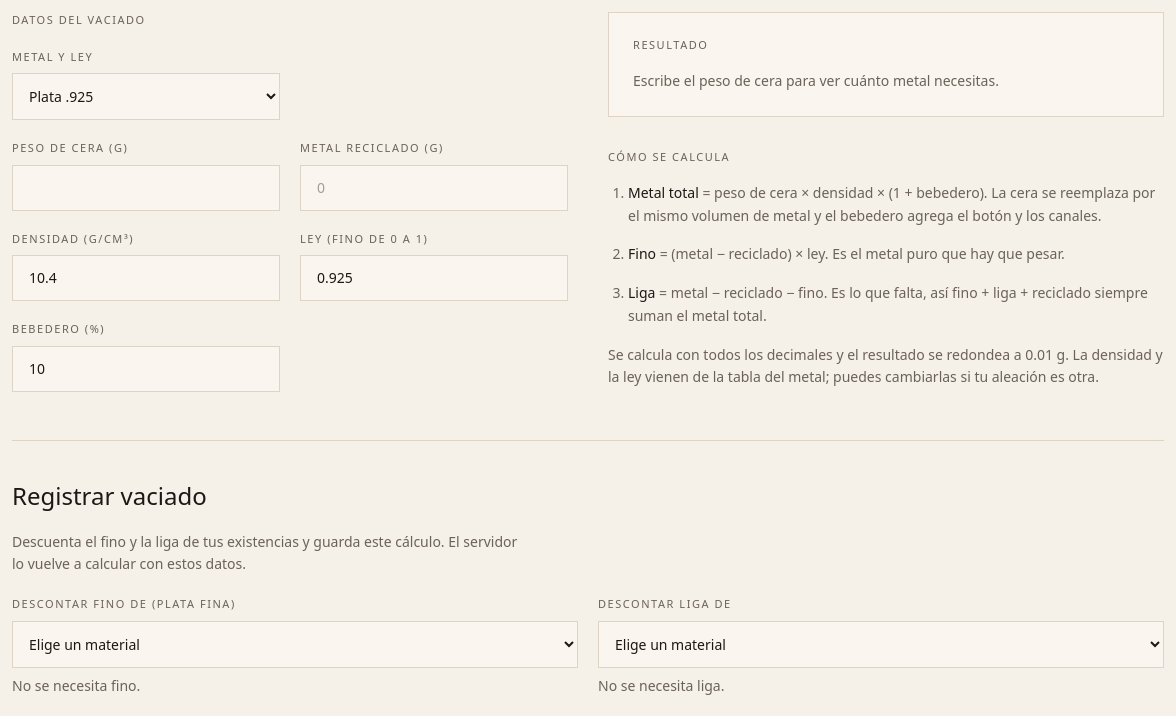
Scenario: CastingCalculator: live results › REQUIRED VECTOR: 5 g of wax in 14k yellow gold -> 71.89 g metal, 42.05 g fine, 29.84 g alloy
The image size is (1176, 716).
Select "Oro 14k" in the dropdown labelled "Metal y ley" at coordinates (146, 96), box [12,73,280,120]
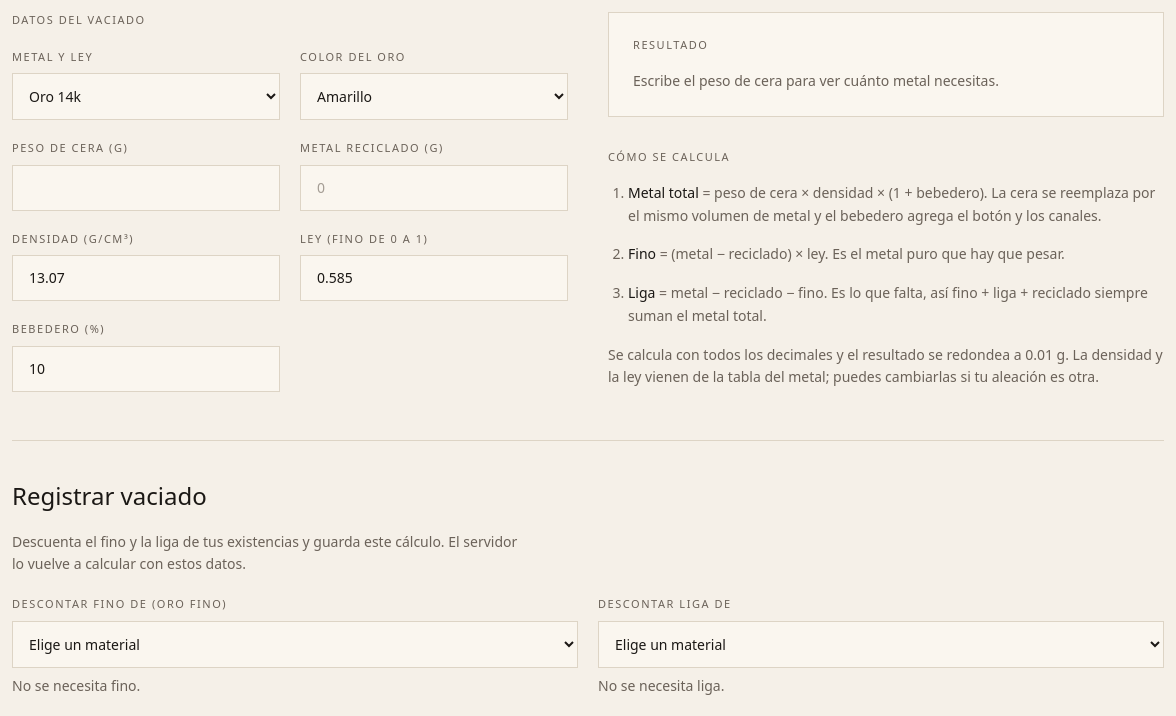
Type "5" into the number field labelled "Peso de cera (g)" at coordinates (146, 188), box [12,164,280,210]
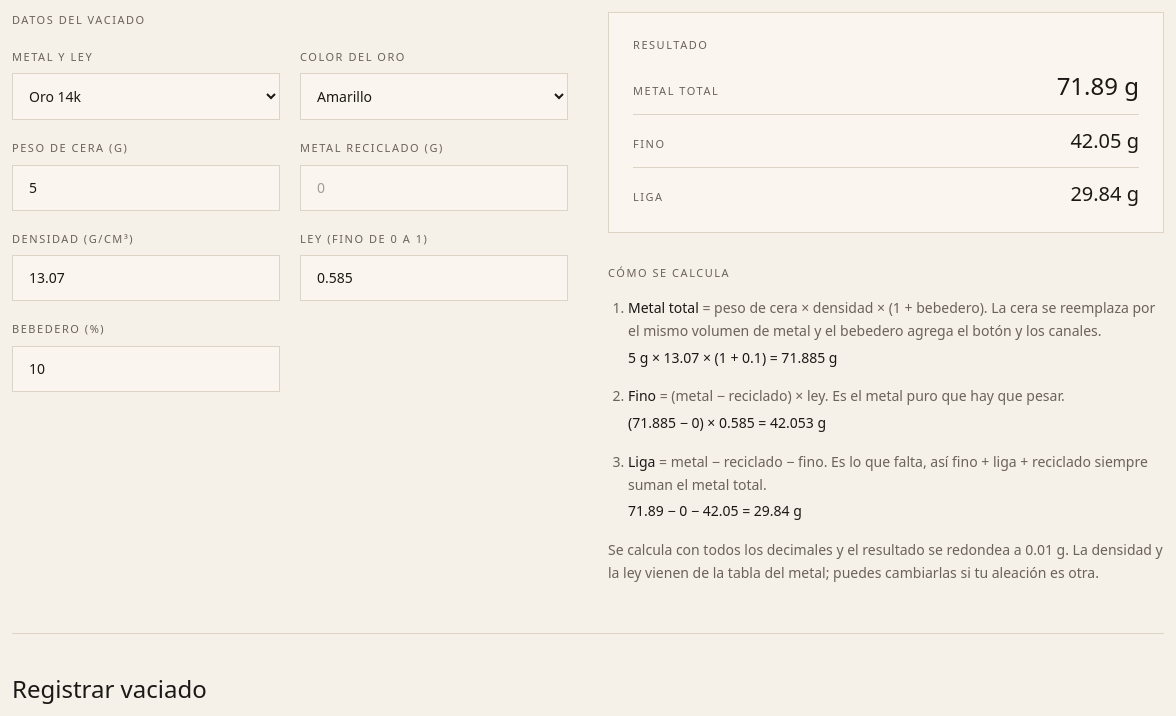
Check: the text "71.89 g" is shown, box [1057,70,1139,102]
Check: the text "42.05 g" is shown, box [1070,126,1139,154]
Check: the text "29.84 g" is shown, box [1070,180,1139,208]
